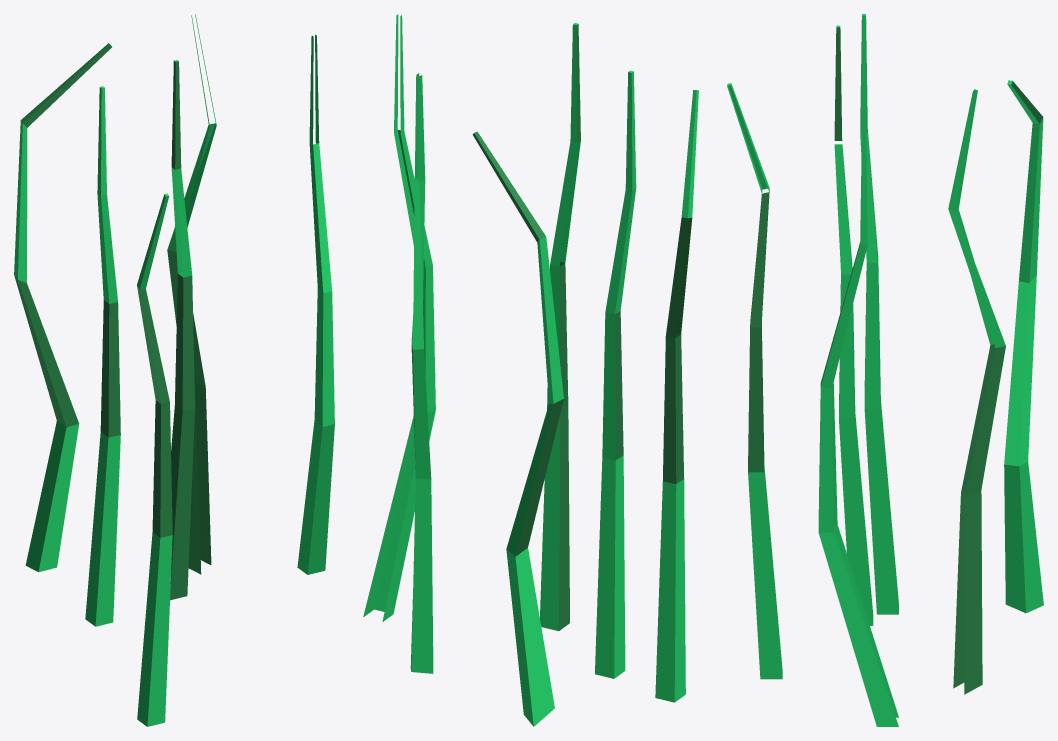
Rendered from folhagrama2.fbx.
3 views of the same model, side by side, from view 1: azimuth 30°, elevation 25°; view 2: azimuth 150°, elevation 25°; view 3: azimuth 270°, elevation 25° (orthographic). The views are drawn at different scales.
Visible parts, largest first — view 1: Cube; view 2: Cube; view 3: Cube.
Boxes of the visible parts, box(x1,y1,x2,y2) form: Cube: box(14, 14, 334, 726); Cube: box(363, 14, 698, 726); Cube: box(727, 14, 1043, 726).
Size of the model in its own units: 276 by 685 by 290.
